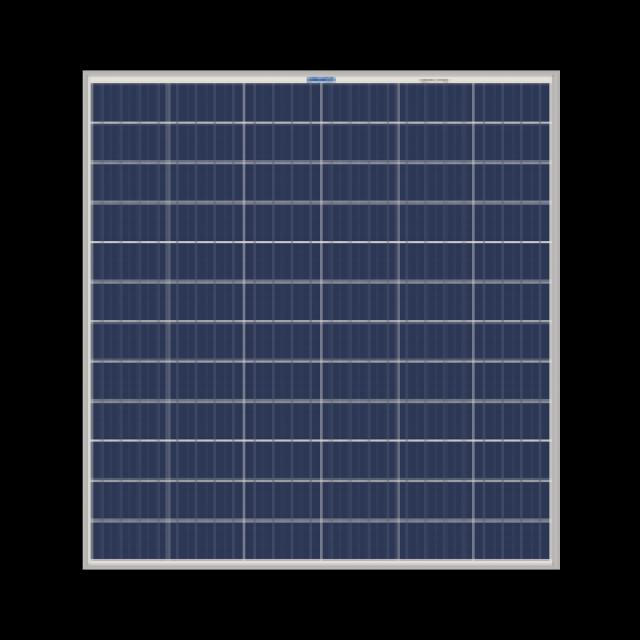clean-solar-panel: (84, 73, 558, 569)
